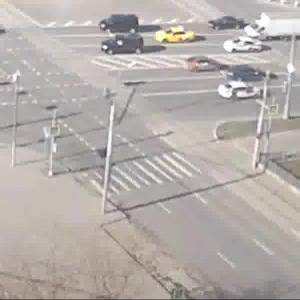car: (249, 17, 300, 46), (151, 28, 202, 51), (98, 34, 144, 59), (226, 68, 280, 84), (217, 83, 270, 99), (103, 13, 137, 32), (181, 59, 224, 74), (206, 22, 244, 38), (227, 41, 265, 56)
